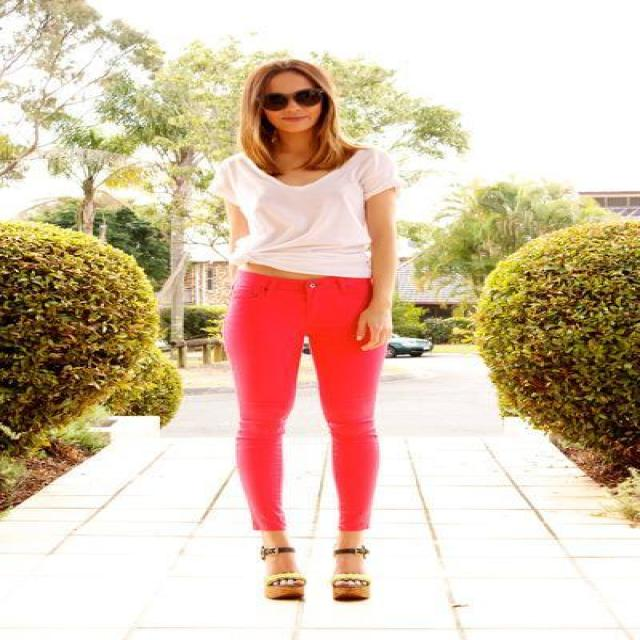pants: (232, 272, 382, 531)
shirt: (212, 141, 398, 277)
shoe: (267, 556, 368, 600)
sunglass: (253, 75, 288, 114)
